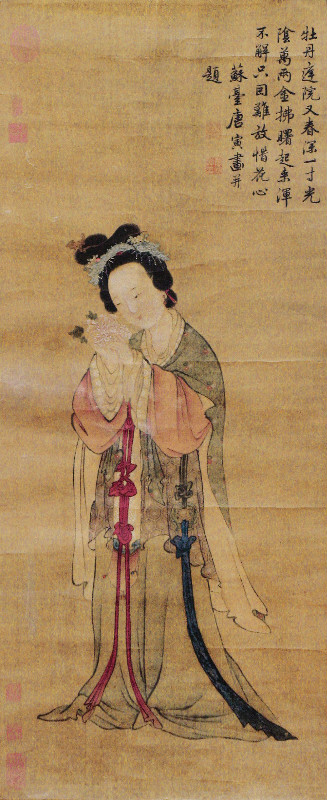flower: (65, 315, 120, 345)
woman: (76, 238, 226, 748)
